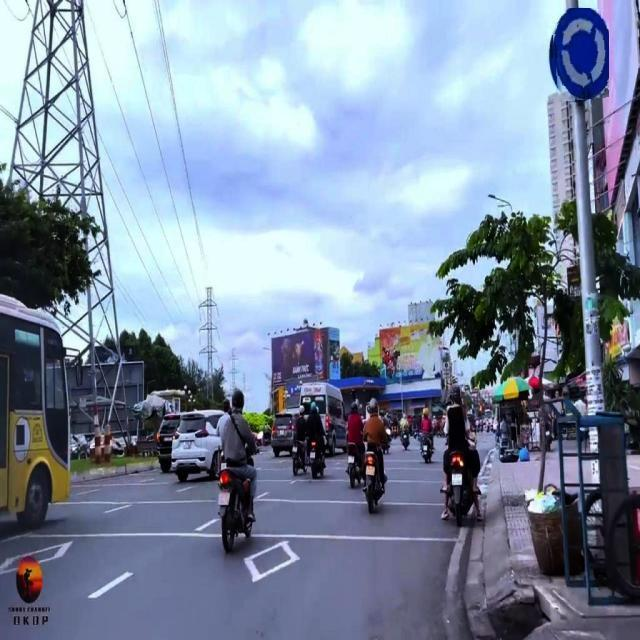303-noi-giao-nhau-chay-theo-vong-xuyen: (550, 8, 614, 96)
